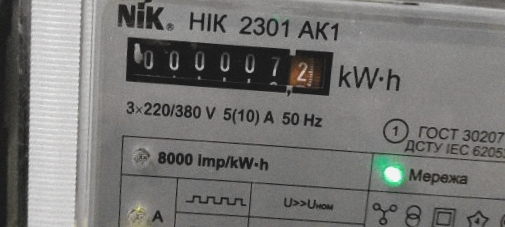0: (139, 46, 155, 71), (216, 50, 232, 74), (191, 48, 206, 72), (241, 51, 256, 75), (165, 48, 180, 71)
2: (294, 59, 309, 83)
7: (267, 53, 281, 78)
screen: (112, 23, 344, 108)
